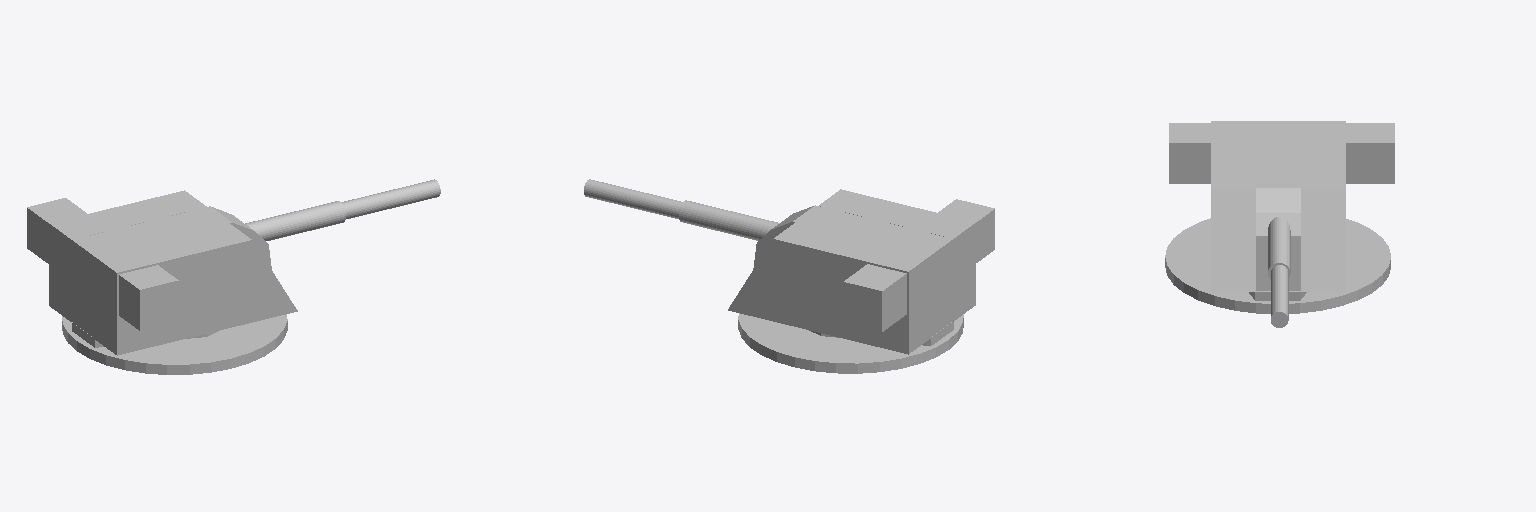
Rendered from 400mmSingle.obj.
3 views of the same model, side by side, from view 1: azimuth 30°, elevation 25°; view 2: azimuth 150°, elevation 25°; view 3: azimuth 270°, elevation 25° (orthographic).
Visible parts, largest first — view 1: Cube.004_Cube; view 2: Cube.004_Cube; view 3: Cube.004_Cube.
Boxes of the visible parts, x1,y1,x2,y2 form: Cube.004_Cube: [27, 179, 440, 374]; Cube.004_Cube: [584, 179, 994, 373]; Cube.004_Cube: [1165, 121, 1394, 327].
Size of the model in its own units: 3.68 by 0.9903 by 2.03.